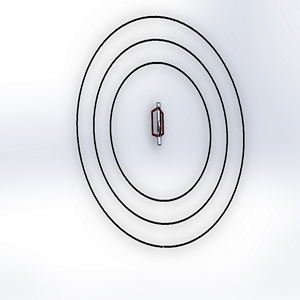circle: (68, 9, 253, 256)
submarine: (140, 94, 174, 153)
